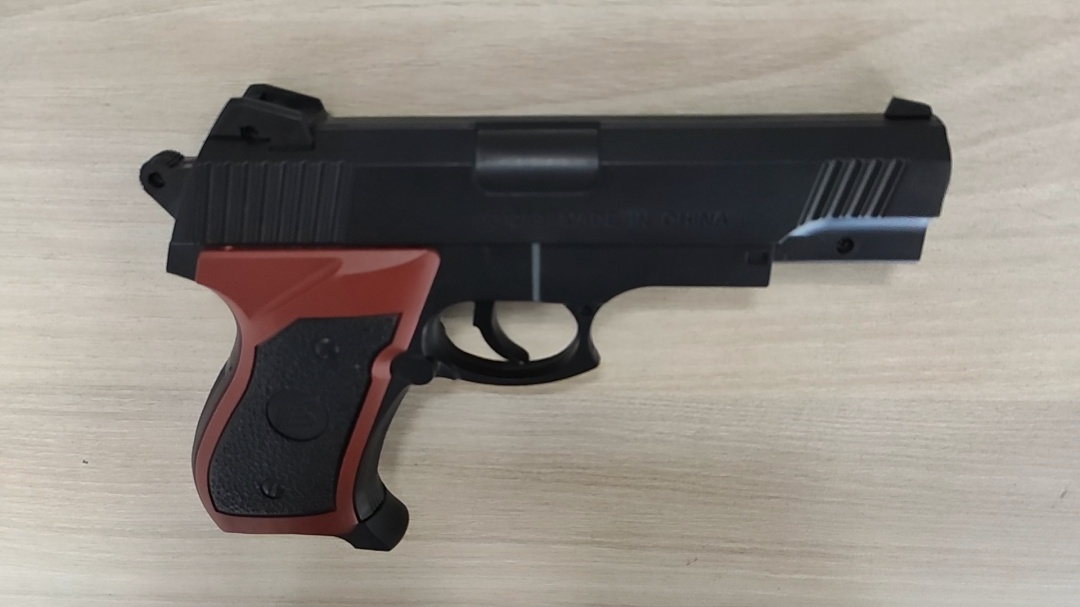gun: (522, 192, 718, 277)
